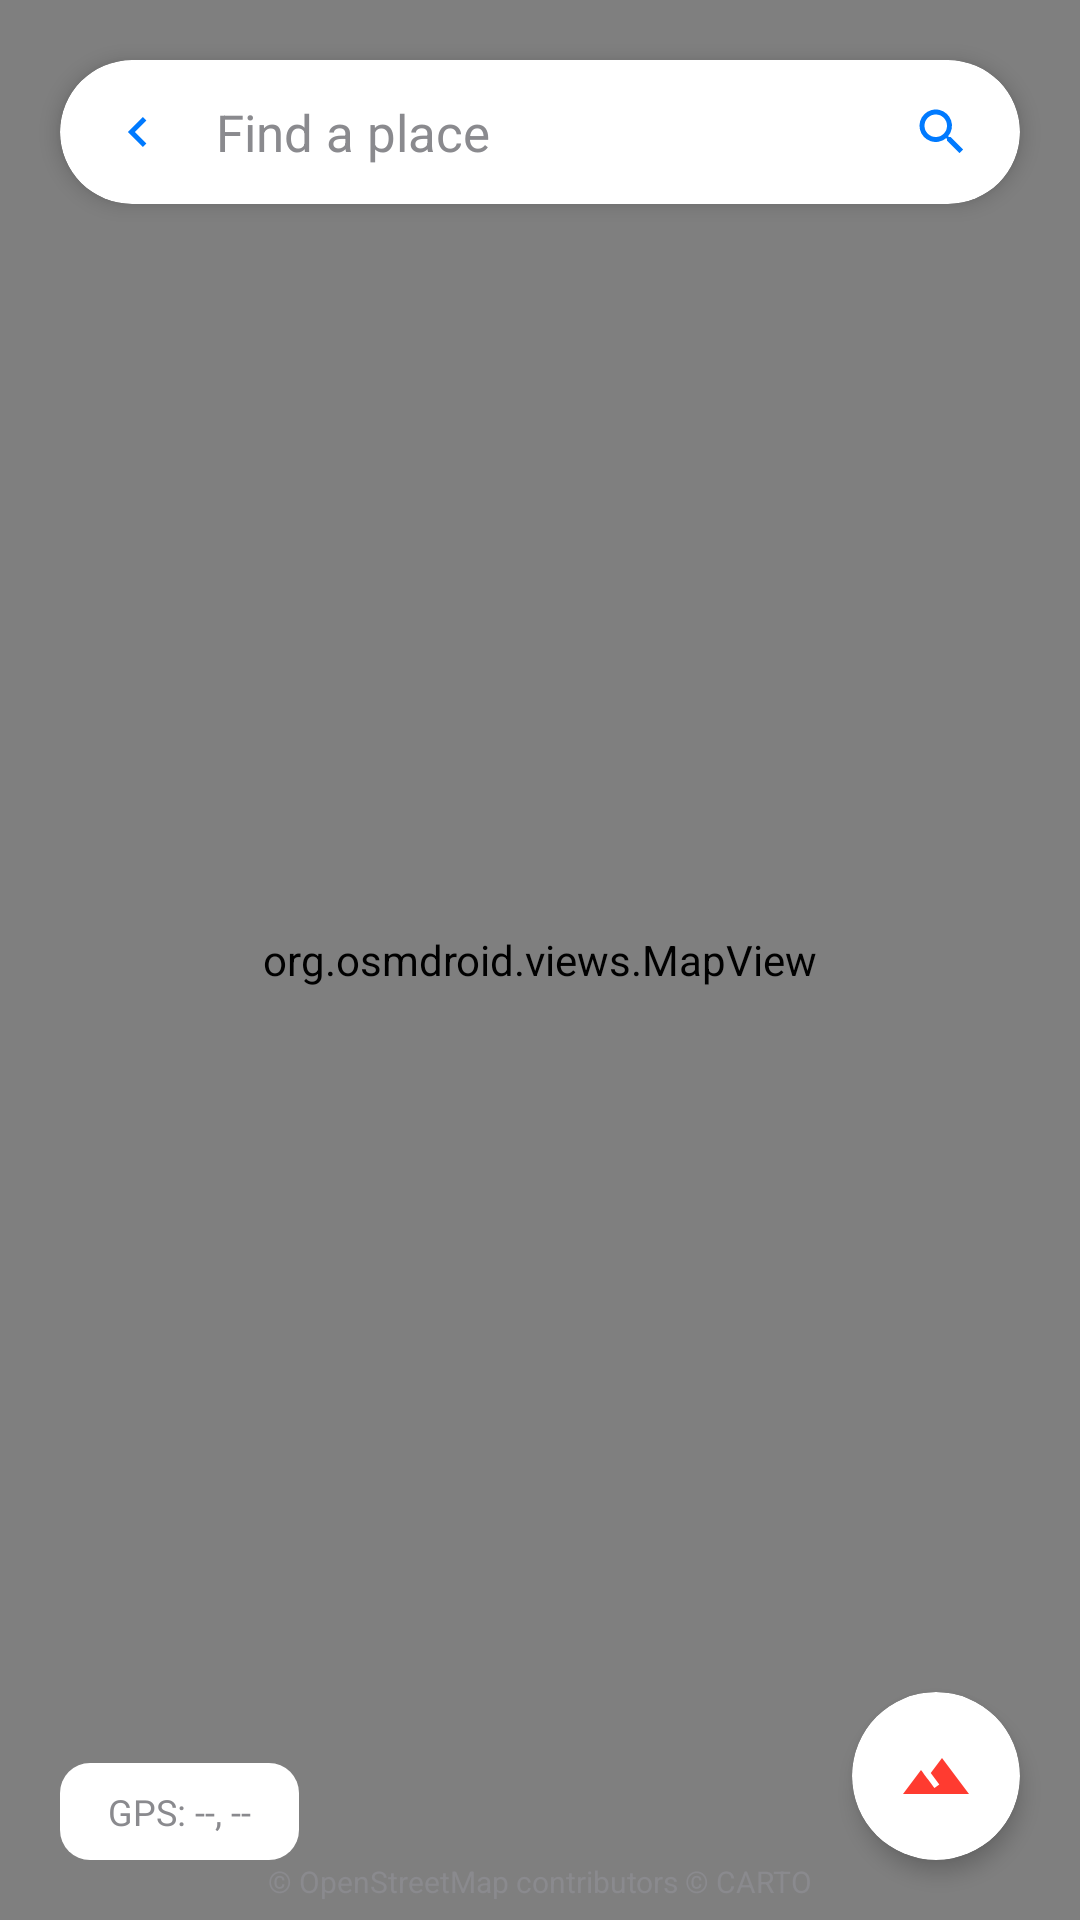

Icons on this 1080x1920 Android screen, each with the point to tap as point (x, y):
Search: point (941, 131)
